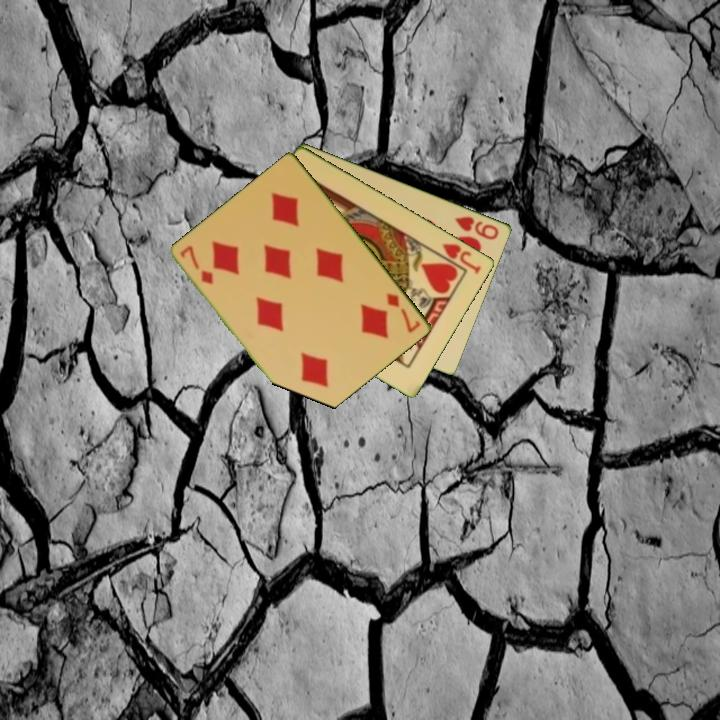7d: (383, 290, 424, 336), (177, 242, 217, 288)
9h: (452, 212, 502, 243)
Jh: (439, 240, 484, 277)
